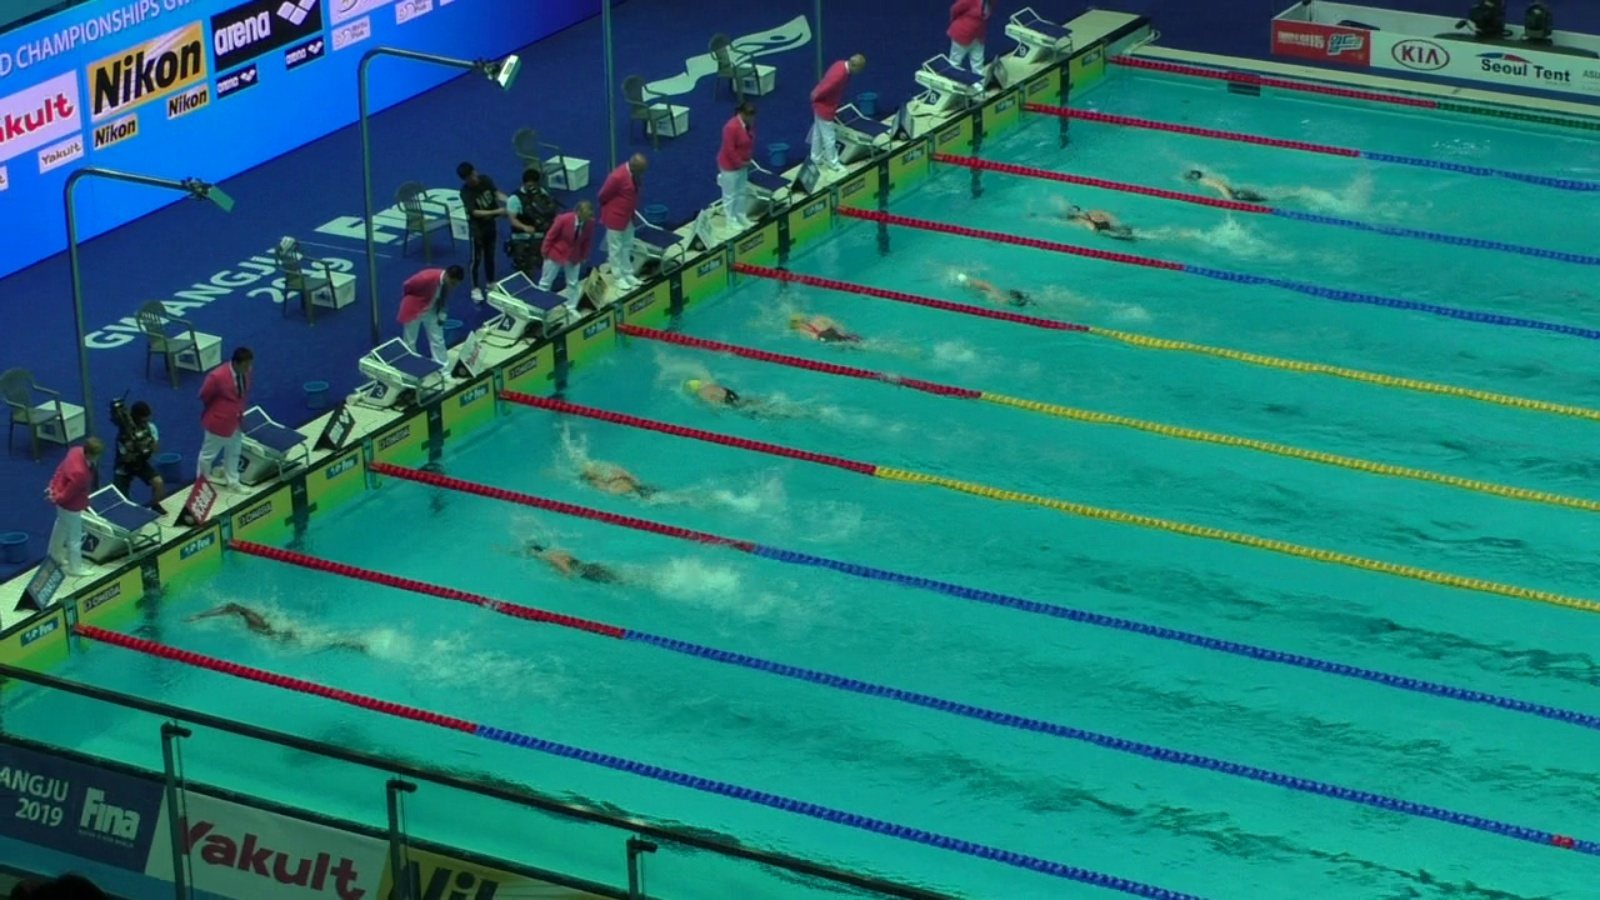swimmerwdd: (193, 601, 382, 656), (779, 305, 922, 357), (946, 264, 1073, 321), (570, 464, 718, 512), (521, 536, 655, 589), (679, 373, 819, 420), (1029, 201, 1162, 245), (1182, 164, 1318, 205)
